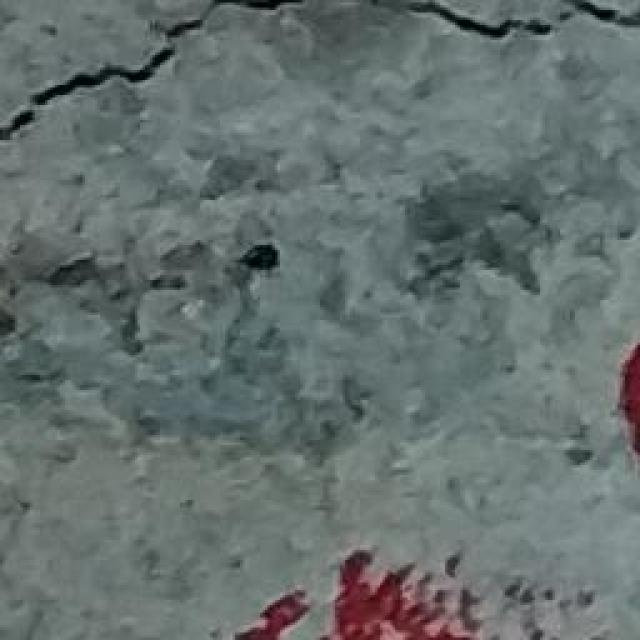Rippled: (5, 174, 640, 640)
Transverse: (0, 0, 640, 135)
